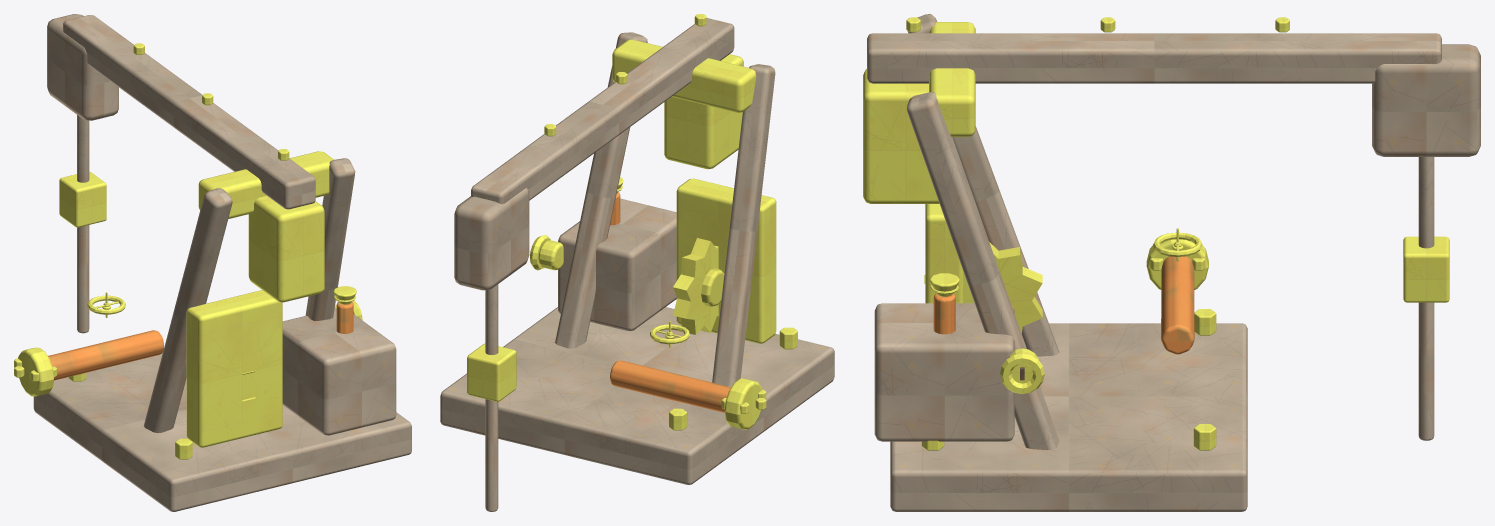
The model's file is ff-pumpjack.glb.
The picture shows the model from 3 angles, left to right: view 1: azimuth 30°, elevation 25°; view 2: azimuth 150°, elevation 25°; view 3: azimuth 270°, elevation 25°; orthographic projection. The views are drawn at different scales.
Parts seen in each view (by area): view 1: AFrame, Base, Bolt.002, Beam, Counterweight, Horsehead, Outlet; view 2: Base, AFrame, Bolt.002, Beam, Horsehead, Counterweight, CrankGear, Outlet; view 3: Base, AFrame, Beam, Bolt.002, Horsehead, Counterweight, Outlet, CrankGear, VentLip.002.
Boxes of the visible parts, x1,y1,x2,y2 form: AFrame: (77, 115, 396, 435); Base: (33, 352, 411, 511); Bolt.002: (14, 151, 356, 459); Beam: (63, 15, 315, 209); Counterweight: (248, 196, 324, 302); Horsehead: (47, 14, 118, 120); Outlet: (48, 302, 353, 380); Base: (440, 307, 834, 484); AFrame: (485, 32, 775, 511); Bolt.002: (467, 39, 797, 430); Beam: (471, 18, 734, 204); Horsehead: (454, 188, 529, 290); Counterweight: (664, 54, 743, 169); CrankGear: (666, 238, 724, 336); Outlet: (610, 192, 730, 412); Base: (890, 323, 1247, 511); AFrame: (874, 14, 1434, 450); Beam: (867, 33, 1441, 83); Bolt.002: (921, 22, 1449, 450); Horsehead: (1372, 44, 1480, 156); Counterweight: (863, 69, 939, 203); Outlet: (933, 256, 1194, 354); CrankGear: (924, 241, 1181, 333); VentLip.002: (930, 285, 1044, 394).
Bounding box in the file's own units: 1.09 × 1.19 × 1.59.
8 materials, 7 textured.
